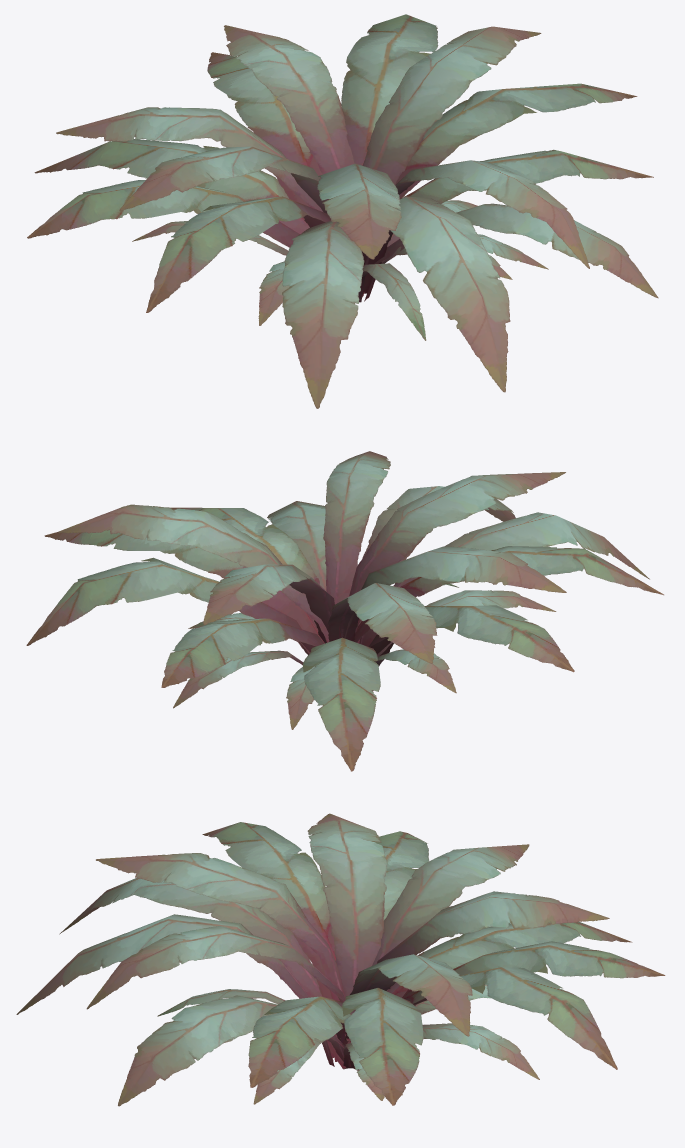
File: SM_Com_Tre_07BS.fbx
3 views of the same model, one above another, from view 1: azimuth 30°, elevation 25°; view 2: azimuth 150°, elevation 25°; view 3: azimuth 270°, elevation 25° (orthographic). The views are drawn at different scales.
Visible parts, largest first — view 1: SM_Com_Tre_07BS.mo; view 2: SM_Com_Tre_07BS.mo; view 3: SM_Com_Tre_07BS.mo.
Boxes of the visible parts, bbox=[...] form: SM_Com_Tre_07BS.mo: bbox=[27, 14, 658, 408]; SM_Com_Tre_07BS.mo: bbox=[26, 451, 663, 771]; SM_Com_Tre_07BS.mo: bbox=[16, 813, 665, 1106].
Size of the model in its own units: 3.69 by 1.12 by 3.67.
